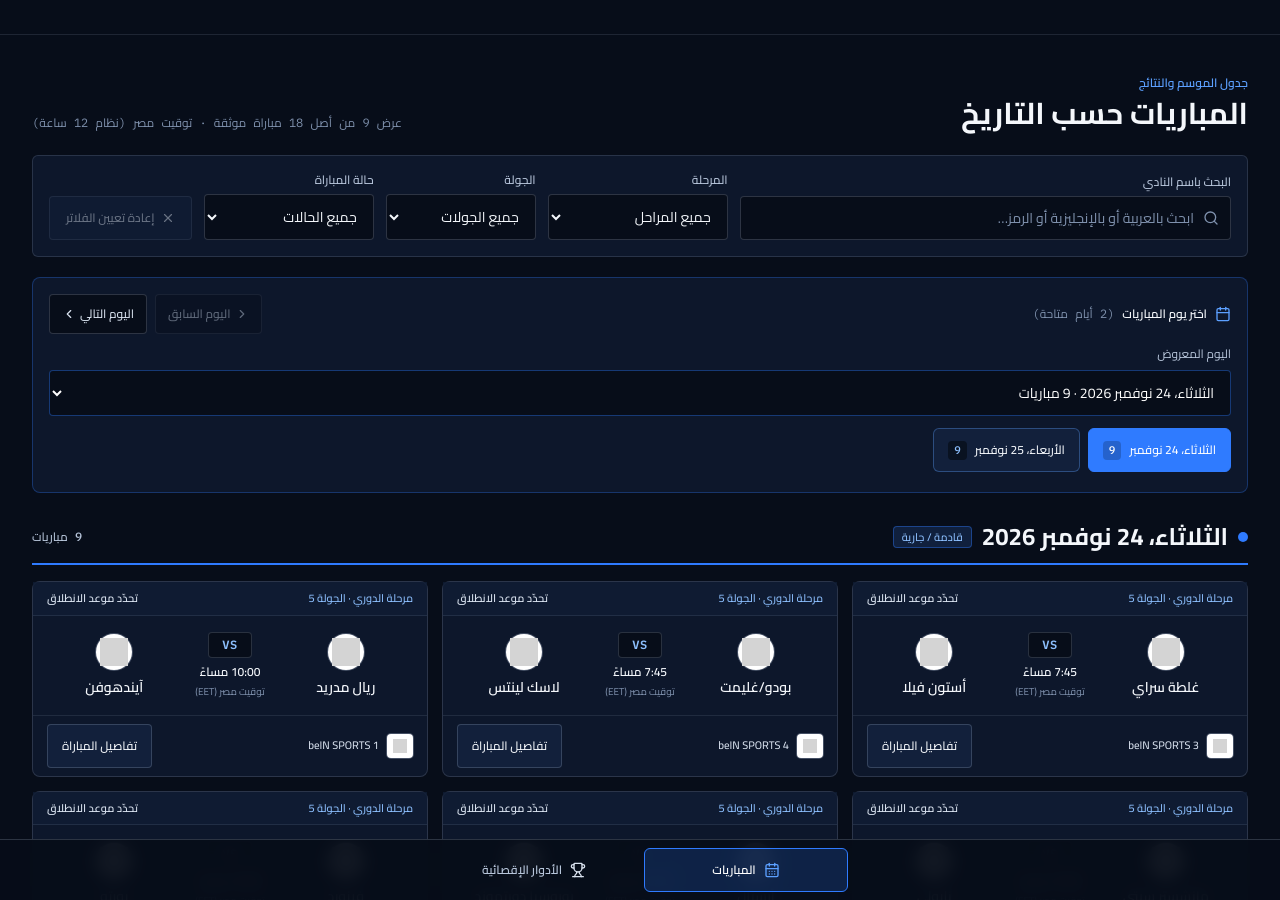
it: Champions League Matches & Knockout App UI (Arabic / RTL) › replaces ONLY the repeated card date with verified beIN SPORTS channel + logo on Nov 24-25 while rendering one day at a time and falling back safely on unknown
The image size is (1280, 900).
Later steps or results of the test are not shown.
(page scrolled)
Expected: the heading "الثلاثاء، 24 نوفمبر 2026" is shown, [982,521,1228,553]
Expected: the heading "الأربعاء، 25 نوفمبر 2026" is not shown
Click the button "الأربعاء، 25 نوفمبر 9": click(1006, 450) [933,428,1080,472]
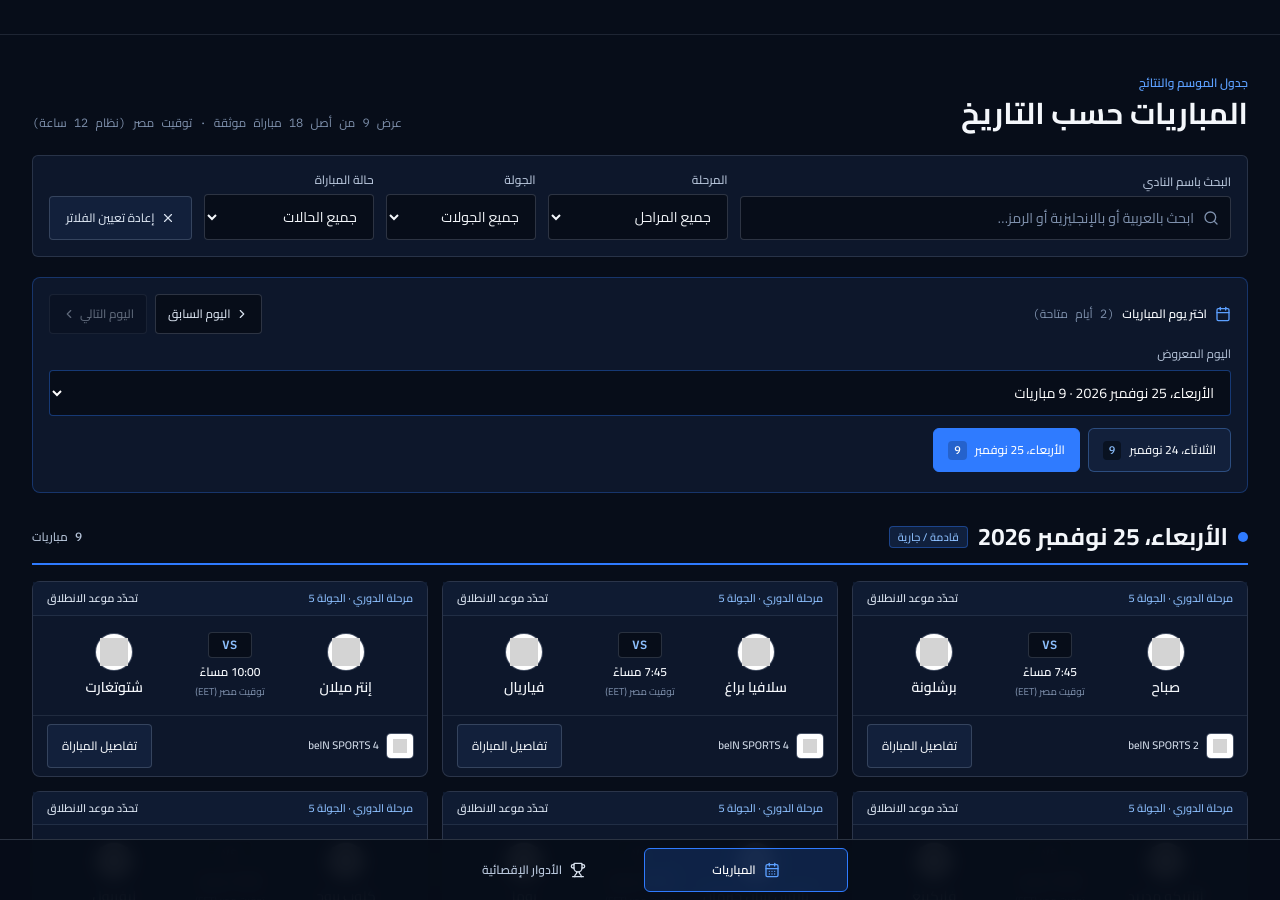
Expected: the heading "الثلاثاء، 24 نوفمبر 2026" is not shown
Expected: the heading "الأربعاء، 25 نوفمبر 2026" is shown, [978,521,1228,553]
Expected: the text "beIN SPORTS 2" is shown, [1128,739,1199,753]
